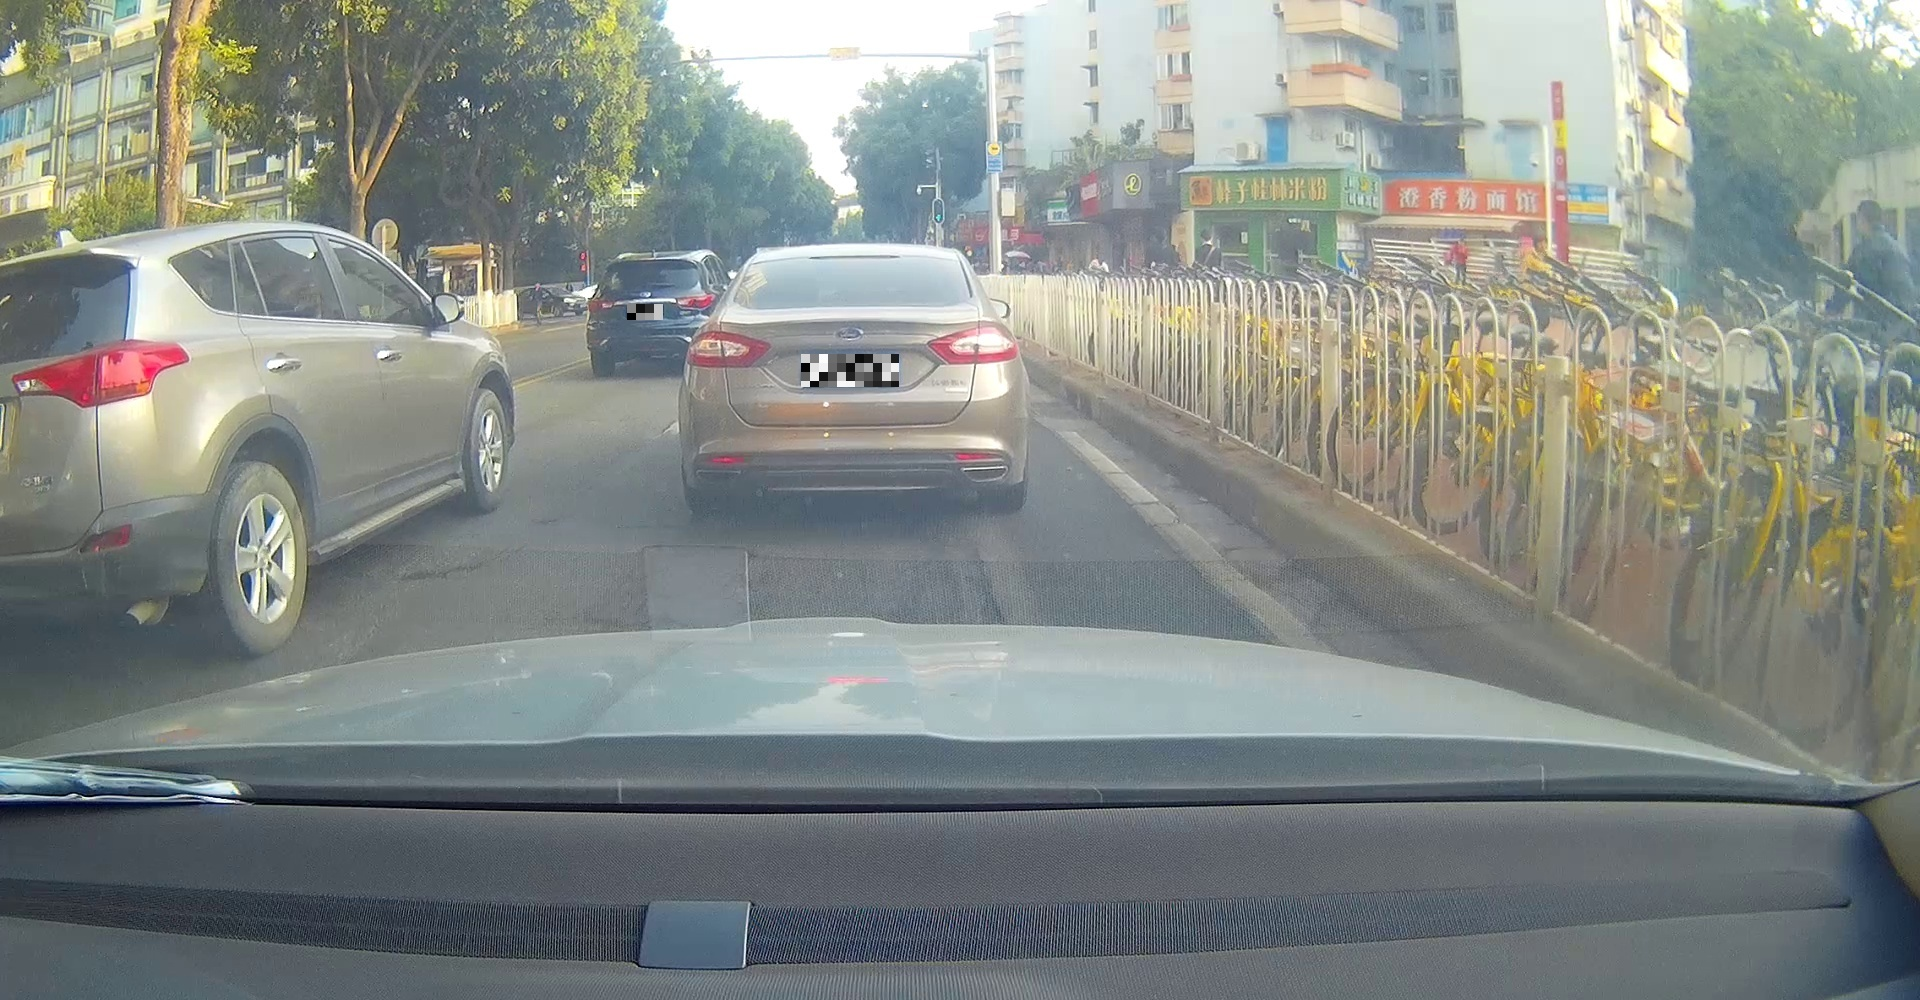L_light: (684, 330, 771, 368)
R_light: (927, 324, 1018, 365)
T_light: (838, 258, 872, 266)
day-no: (679, 244, 1029, 510)
plate_1: (627, 305, 663, 320)
plate_2: (801, 354, 899, 387)
